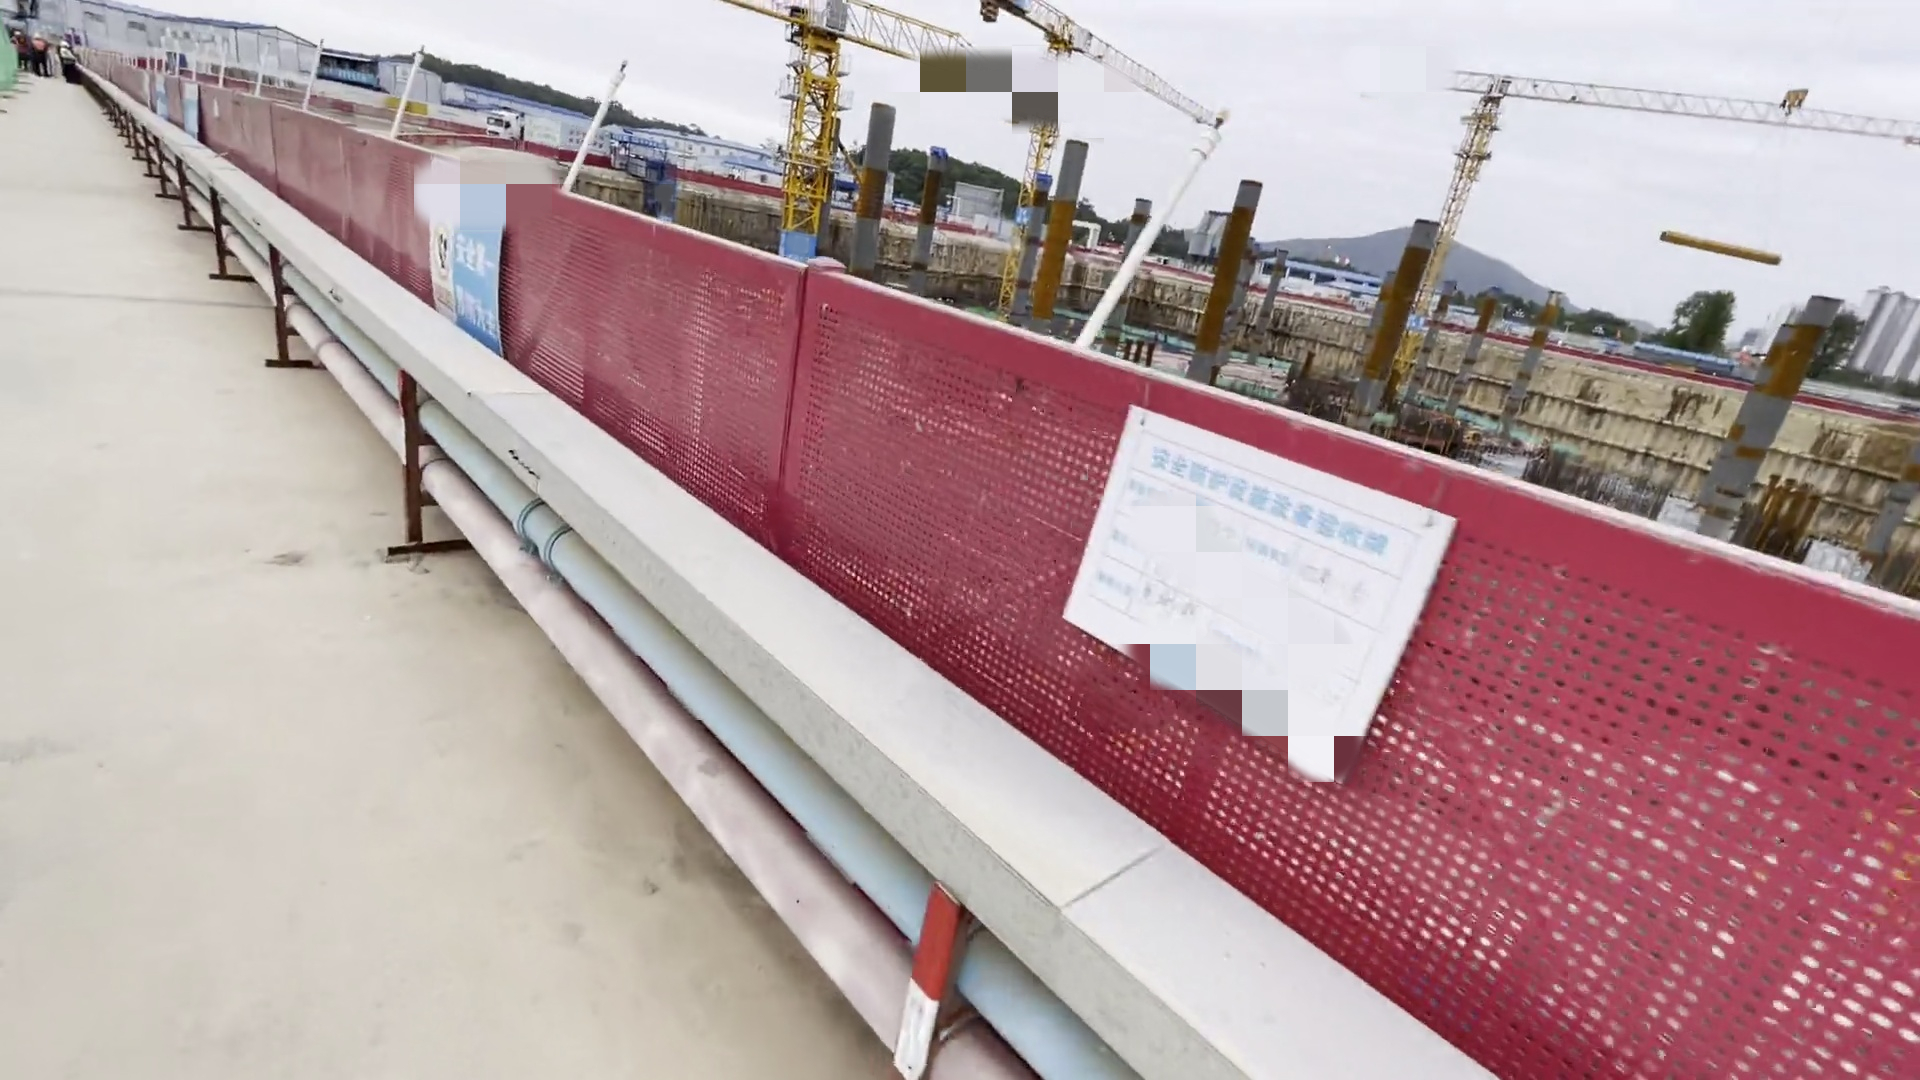fence: (52, 41, 1895, 1064)
hook: (1753, 66, 1827, 113)
person: (10, 28, 31, 74), (31, 32, 51, 79)
slogan: (413, 174, 505, 343)
